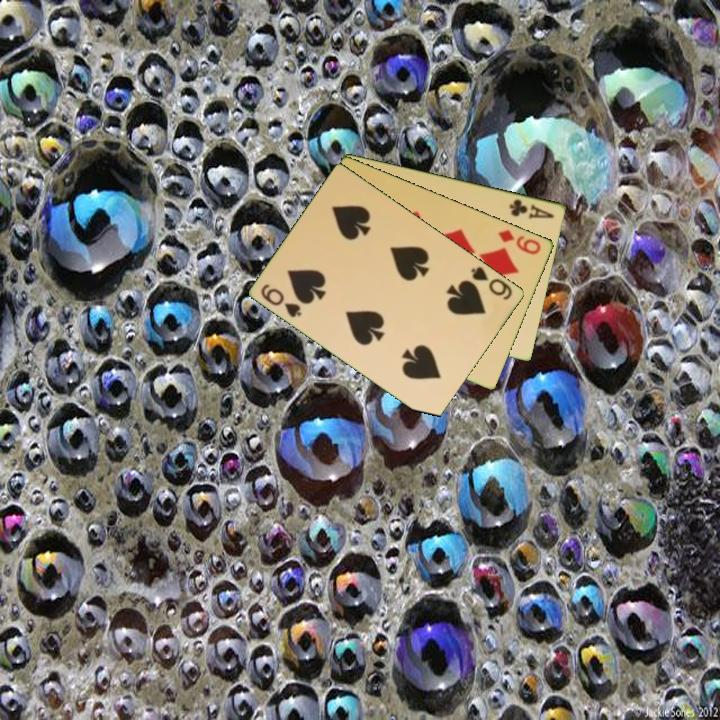6s: (468, 263, 516, 303), (257, 280, 305, 320)
9d: (495, 226, 544, 257)
Ac: (506, 195, 557, 221)
